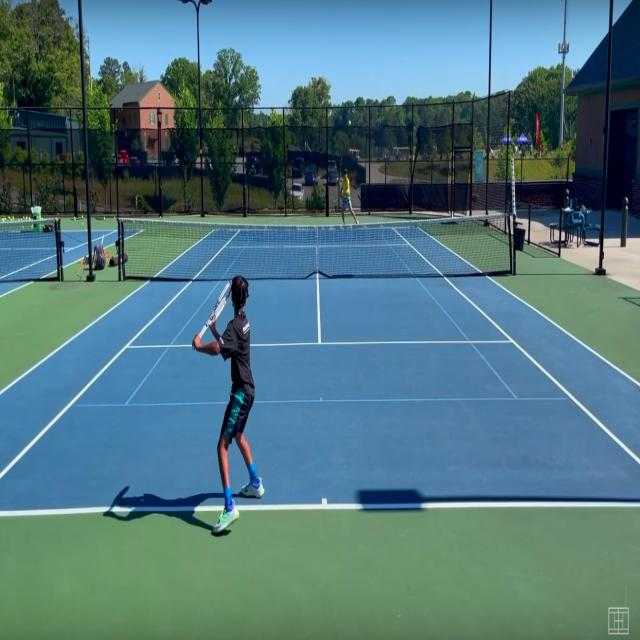ball: (348, 120, 352, 126)
